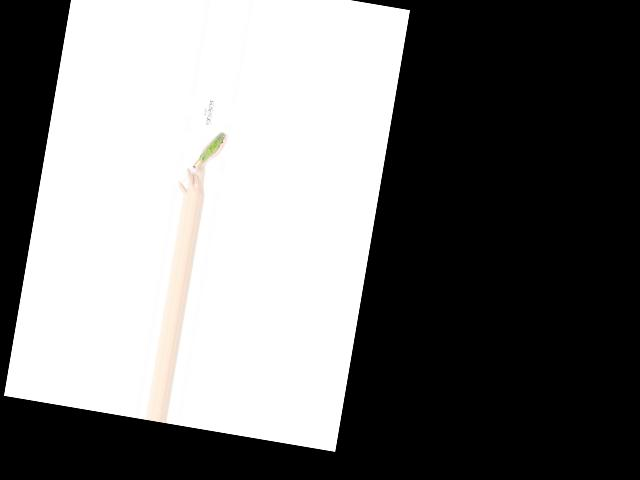cucumber: (198, 129, 225, 165)
